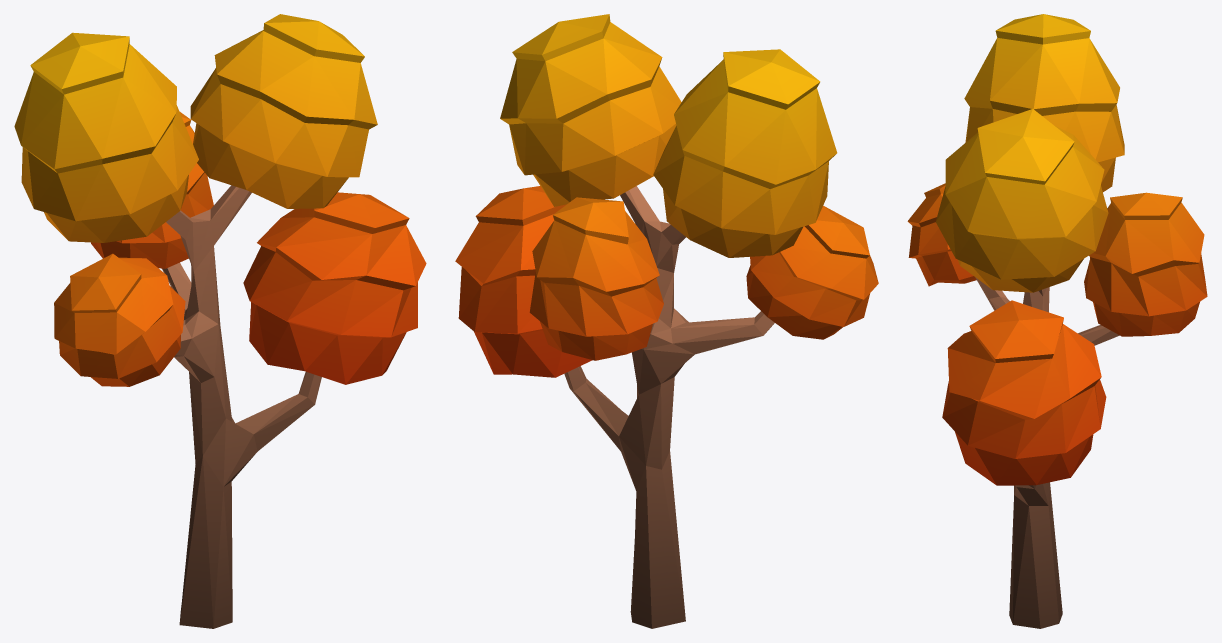
Rendered from autumn tree 4.fbx.
3 renders of one model, left to right at view 1: azimuth 30°, elevation 25°; view 2: azimuth 150°, elevation 25°; view 3: azimuth 270°, elevation 25°, orthographic. The views are drawn at different scales.
Parts seen in each view (by area): view 1: autumn tree 4; view 2: autumn tree 4; view 3: autumn tree 4.
Boxes of the visible parts, x1=… form: autumn tree 4: x1=14, y1=14, x2=426, y2=628; autumn tree 4: x1=455, y1=14, x2=878, y2=628; autumn tree 4: x1=907, y1=14, x2=1207, y2=628.
Size of the model in its own units: 543 by 807 by 399.
